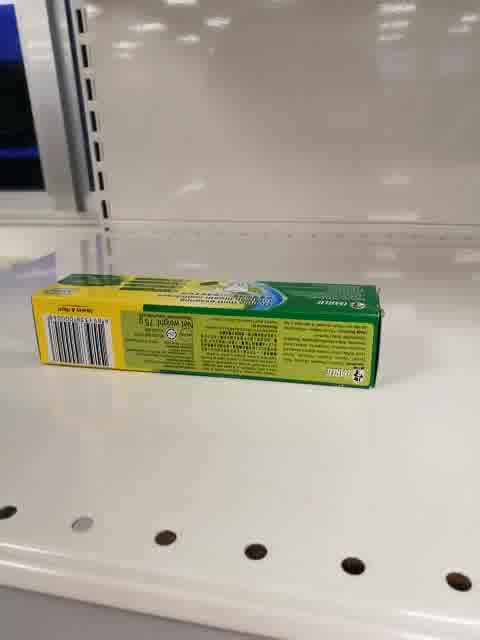toothpaste: (30, 274, 383, 392)
